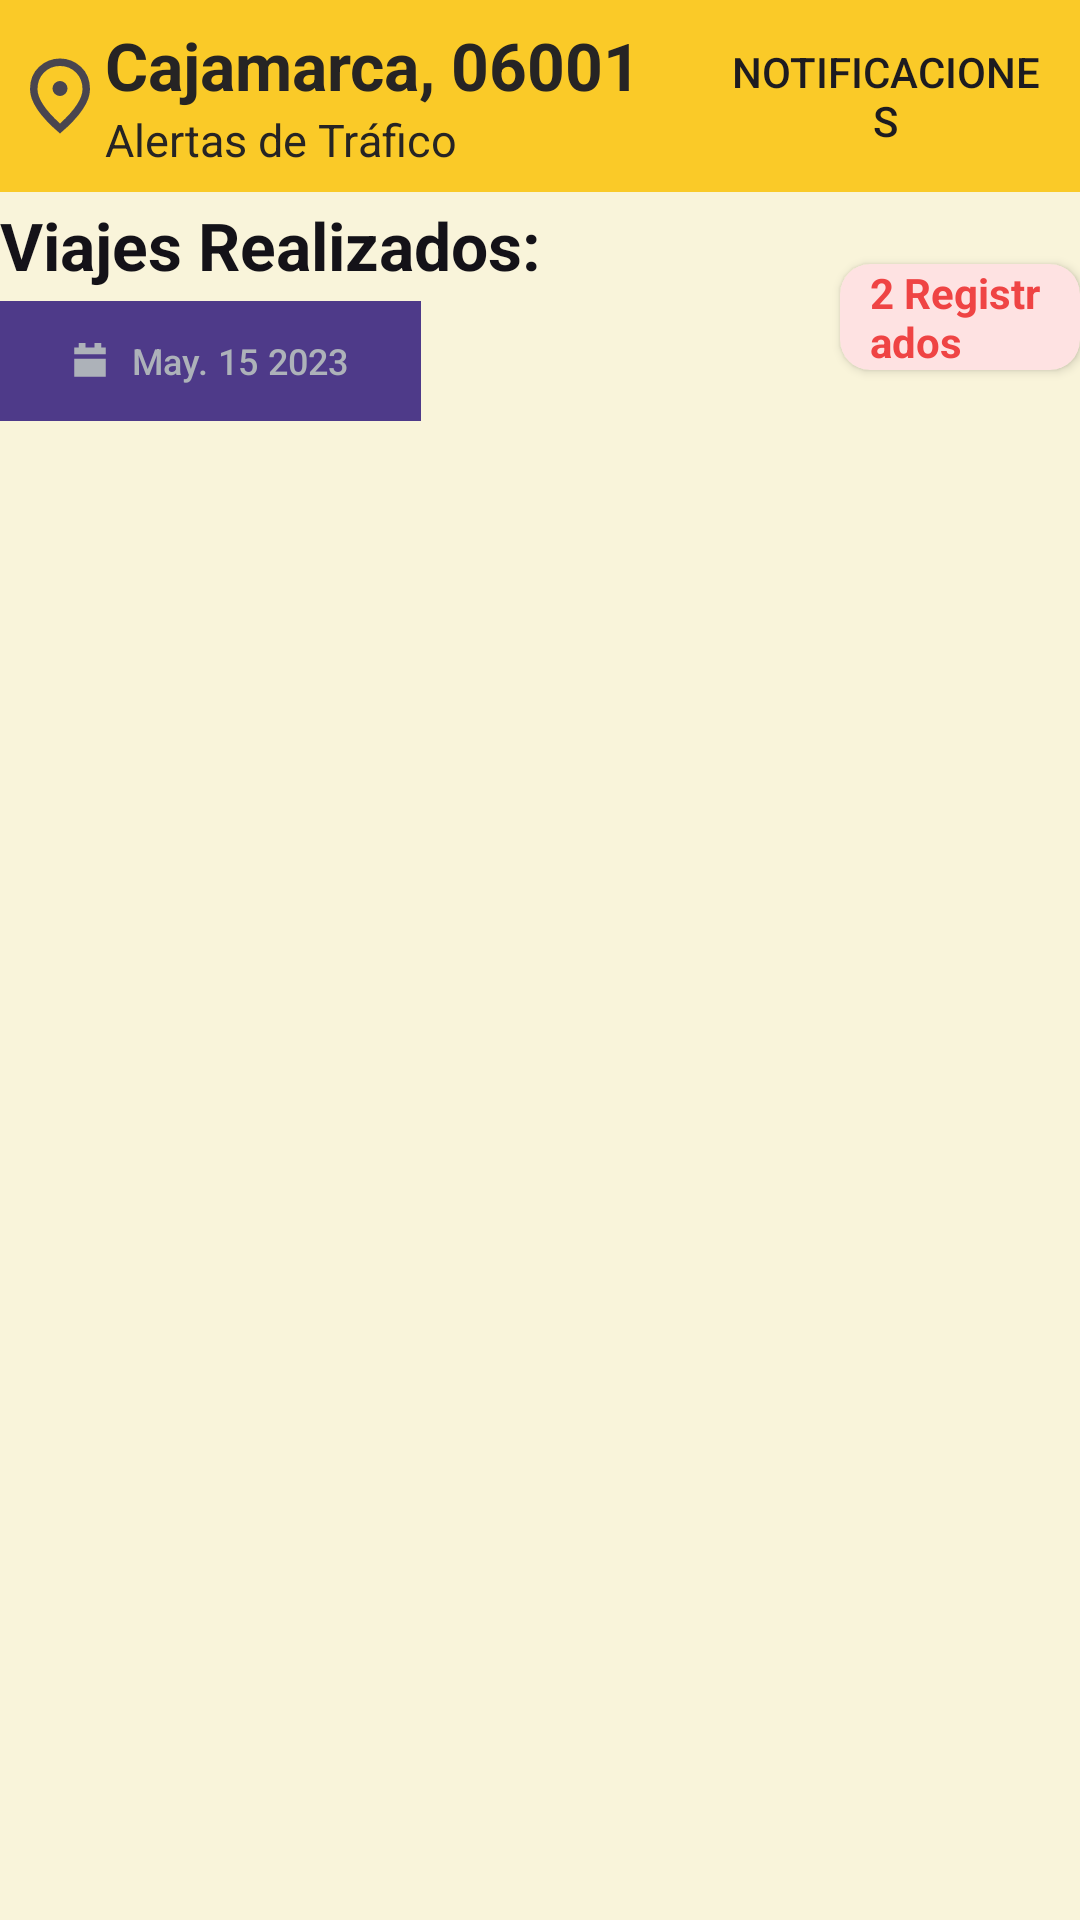

Icons on this 1080×1920 Android screen, each with the point to tap as (x=x, y=y):
location: (x=60, y=96)
